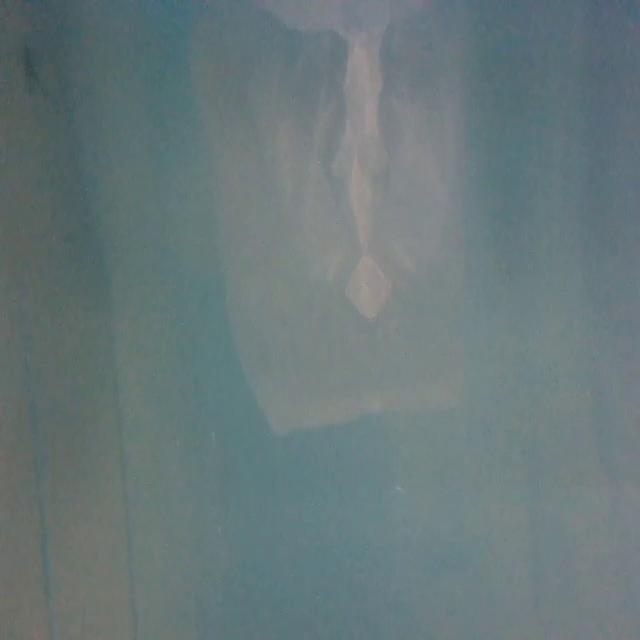plastic bags: (201, 0, 439, 461)
